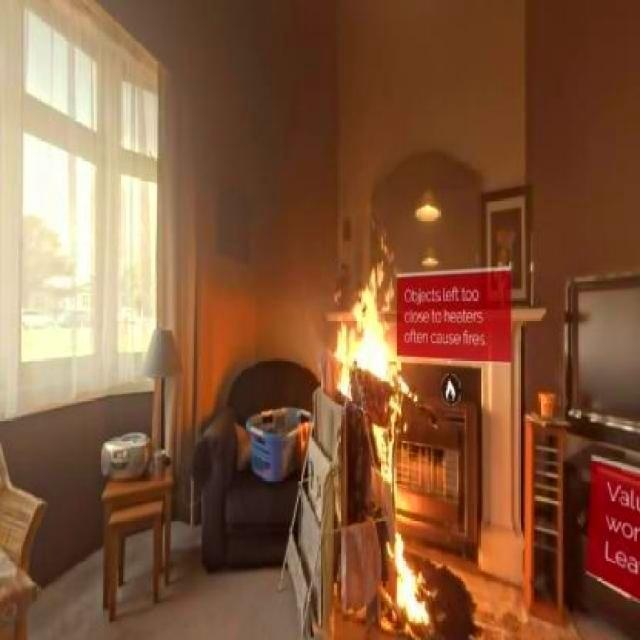fire: (337, 276, 417, 414)
